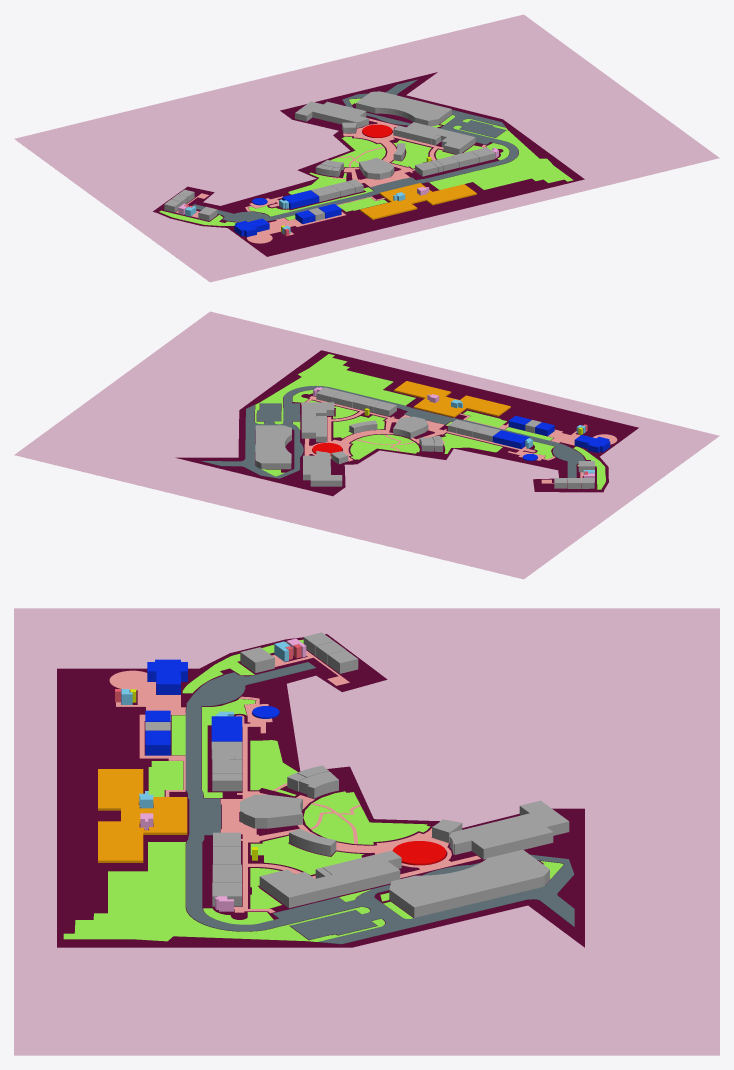
File: njc-l1-v2-31-3.glb
3 views of the same model, one above another, from view 1: azimuth 30°, elevation 25°; view 2: azimuth 150°, elevation 25°; view 3: azimuth 270°, elevation 25° (orthographic). The views are drawn at different scales.
Visible parts, largest first — view 1: Grey, Base, None, Grass, Drive, Foot, Canteen | 45, Dance Studio 03, Sanctuary; view 2: Grey, Base, None, Grass, Drive, Foot, Canteen | 45, Dance Studio 03, Sanctuary; view 3: Grey, Base, None, Grass, Drive, Foot, Canteen | 45, Dance Studio 03, Atrium | 30, Sanctuary.
Boxes of the visible parts, box(x1,y1,x2,y2) form: Grey: box(14, 14, 719, 282); Base: box(153, 72, 584, 256); None: box(164, 91, 495, 220); Grass: box(159, 98, 573, 225); Drive: box(192, 79, 518, 222); Foot: box(175, 118, 486, 243); Canteen | 45: box(360, 183, 476, 219); Dance Studio 03: box(234, 218, 269, 237); Sanctuary: box(282, 190, 319, 208); Grey: box(14, 311, 719, 579); Base: box(175, 350, 638, 496); None: box(255, 387, 594, 488); Grass: box(255, 354, 605, 489); Drive: box(200, 385, 585, 480); Foot: box(301, 396, 617, 483); Canteen | 45: box(394, 381, 510, 417); Dance Studio 03: box(574, 435, 610, 452); Sanctuary: box(492, 430, 529, 448); Grey: box(14, 608, 719, 1055); Base: box(57, 634, 584, 947); None: box(145, 632, 569, 917); Grass: box(63, 639, 563, 941); Drive: box(185, 662, 574, 944); Foot: box(109, 650, 480, 913); Canteen | 45: box(98, 769, 187, 862); Dance Studio 03: box(147, 659, 187, 694); Atrium | 30: box(392, 841, 446, 865); Sanctuary: box(211, 716, 242, 741).
Bounding box in the file's own units: 18 × 0.203 × 12.
